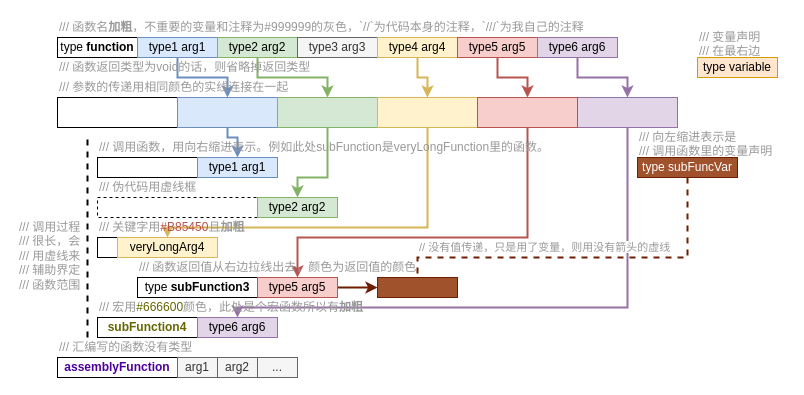
Image size: 804x395. Some labels were removed from this diagram. Each missing label, with the centre of its shape:
"if" belongs at (x=107, y=247).
"pseudo-code例如将arg2取反" belongs at (x=177, y=207).
"subFunction1" belongs at (x=147, y=167).
"subFuncVar" belongs at (x=417, y=287).
"veryLongFunction" belongs at (x=117, y=112).
"veryLongType1 veryLongArg1" belongs at (x=227, y=112).
"veryLongType2 veryLongArg2" belongs at (x=327, y=112).
"veryLongType4 veryLongArg4" belongs at (x=427, y=112).
"veryLongType5 veryLongArg5" belongs at (x=527, y=112).
"veryLongType6 veryLongArg6" belongs at (x=627, y=112).
